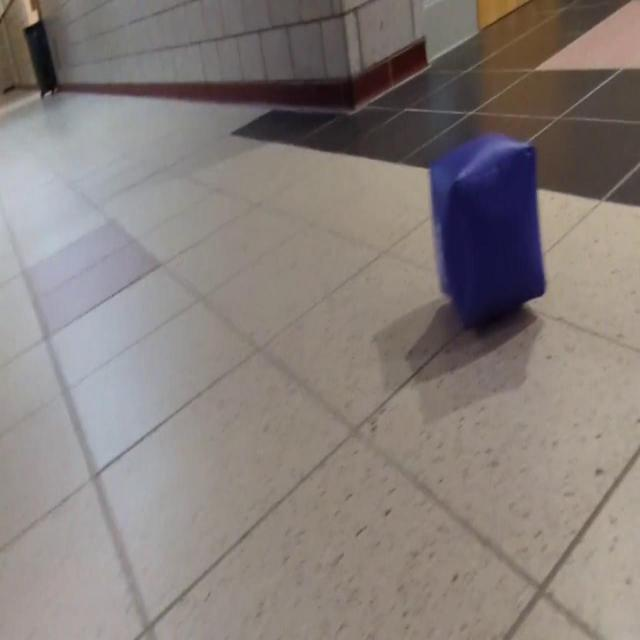frc_cube: (428, 127, 546, 329)
